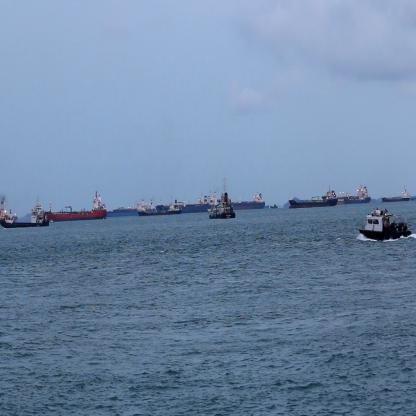Container Ship: (43, 187, 109, 221), (1, 199, 50, 229), (170, 187, 221, 214), (287, 186, 338, 210), (136, 194, 182, 219), (104, 194, 151, 218), (223, 187, 268, 208), (206, 193, 236, 221), (343, 186, 371, 206), (380, 187, 412, 203), (331, 190, 360, 204), (270, 201, 281, 211)
